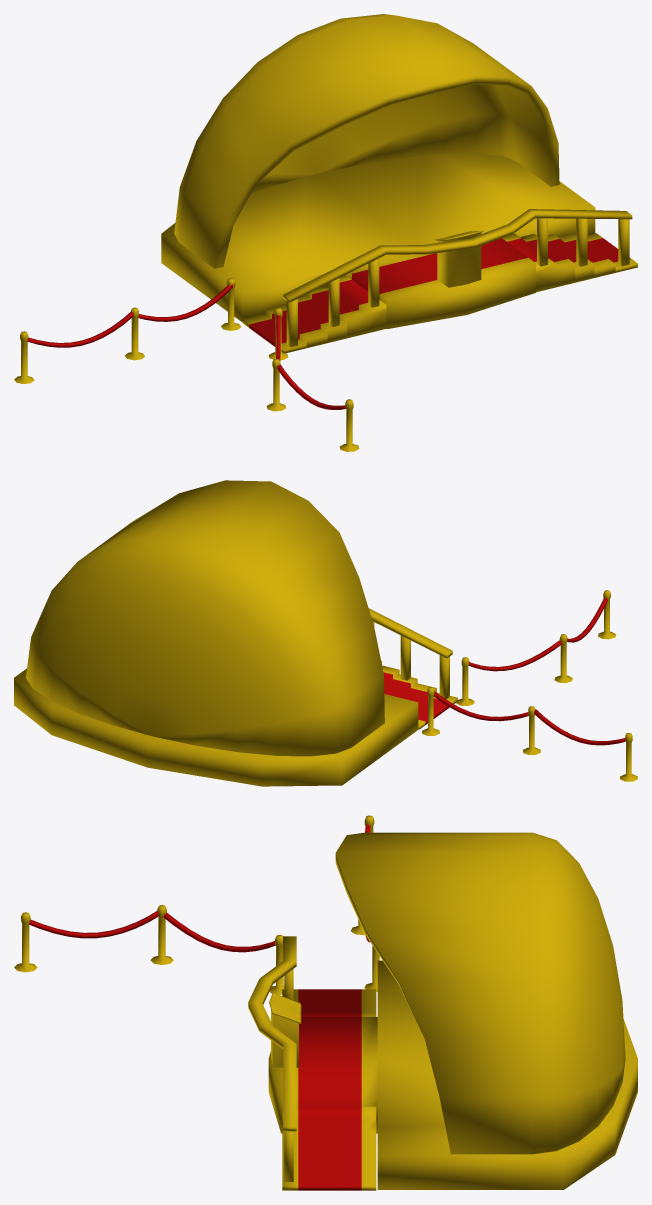
The model's file is GradStage.fbx.
3 views of the same model, one above another, from view 1: azimuth 30°, elevation 25°; view 2: azimuth 150°, elevation 25°; view 3: azimuth 270°, elevation 25° (orthographic). The views are drawn at different scales.
Visible parts, largest first — view 1: Empty_Mesh; view 2: Empty_Mesh; view 3: Empty_Mesh.
Part boxes in pixels (bbox=[...]): Empty_Mesh: bbox=[14, 14, 637, 451]; Empty_Mesh: bbox=[14, 480, 637, 786]; Empty_Mesh: bbox=[14, 815, 637, 1190].
Size of the model in its own units: 31.5 by 10.82 by 25.58.
